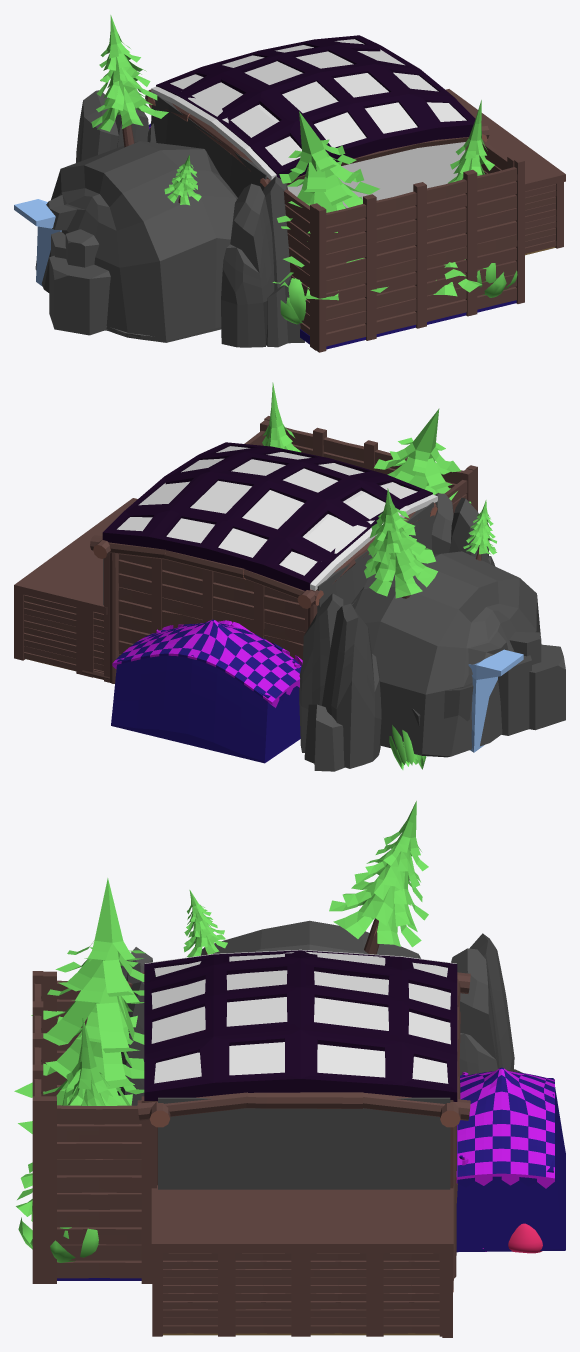
File: Lobby.fbx
The picture shows the model from 3 angles, top to bottom: view 1: azimuth 30°, elevation 25°; view 2: azimuth 150°, elevation 25°; view 3: azimuth 270°, elevation 25°; orthographic projection. The views are drawn at different scales.
Parts seen in each view (by area): view 1: walls, Cube, Rock.005, Cube.004, Cube.001, Log.007, all.001, Cube.010, Cube.013, Cube.009, all.006, all.010 (+2 smaller); view 2: Cube, walls, Rock.005, Cube.004, Cube.001, Cube.002, all.001, Log.007, Cube.013, Cube.009, all.006, crystal_3 (+1 smaller); view 3: walls, Cube.004, Cube.011, Cube.001, Cube, Log.007, Cube.002, all.001, Rock.005, all.006, all.009, Cube.005.
Boxes of the visible parts, x1,y1,x2,y2 form: walls: (145, 89, 565, 352); Cube: (35, 141, 555, 349); Rock.005: (49, 90, 304, 347); Cube.004: (156, 35, 475, 178); Cube.001: (151, 39, 466, 180); Log.007: (272, 111, 388, 300); all.001: (91, 15, 201, 205); Cube.010: (287, 142, 465, 207); Cube.013: (151, 92, 266, 197); Cube.009: (14, 199, 61, 286); all.006: (448, 100, 494, 183); all.010: (280, 278, 306, 324); Cube: (26, 551, 541, 763); walls: (14, 416, 477, 683); Rock.005: (299, 493, 565, 771); Cube.004: (102, 442, 432, 590); Cube.001: (117, 446, 437, 590); Cube.002: (112, 619, 301, 707); all.001: (364, 488, 496, 598); Log.007: (374, 408, 471, 503); Cube.013: (317, 502, 434, 612); Cube.009: (468, 649, 523, 752); all.006: (262, 382, 301, 452); crystal_3: (411, 685, 473, 726); walls: (32, 971, 470, 1337); Cube.004: (144, 950, 457, 1101); Cube.011: (158, 1097, 450, 1189); Cube.001: (145, 949, 456, 1083); Cube: (57, 920, 565, 1335); Log.007: (14, 878, 155, 1133); Cube.002: (456, 1067, 554, 1188); all.001: (183, 801, 428, 957); Rock.005: (117, 933, 522, 1105); all.006: (64, 1017, 120, 1105); all.009: (18, 1202, 99, 1262); Cube.005: (508, 1223, 542, 1253).
Size of the model in its own units: 4098 by 2219 by 3231.
